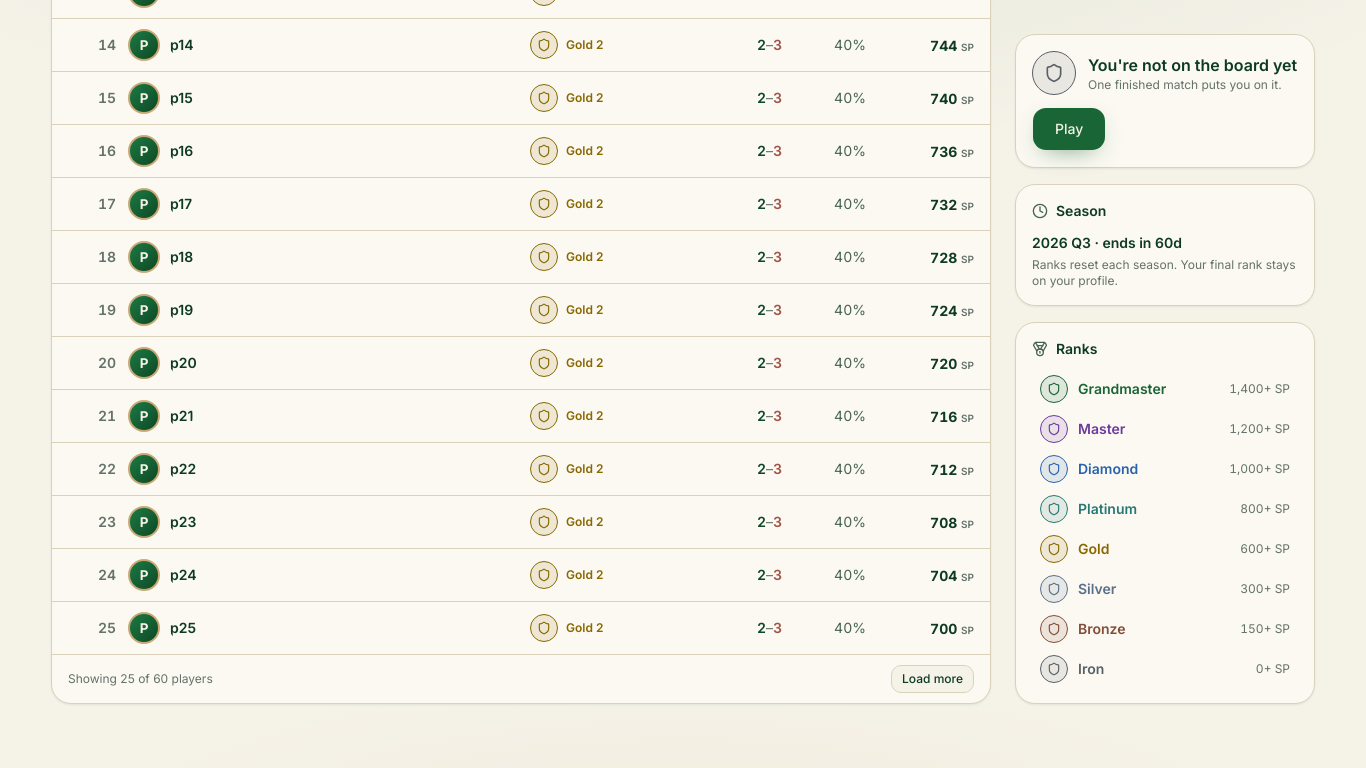
LeaderboardPage › keeps the loaded rows when fetchNextPage fails, and offers a retry
(page scrolled)
Step 1. Click the button with test id "leaderboard-load-more" → [932, 679], box left=891, top=665, right=974, bottom=693
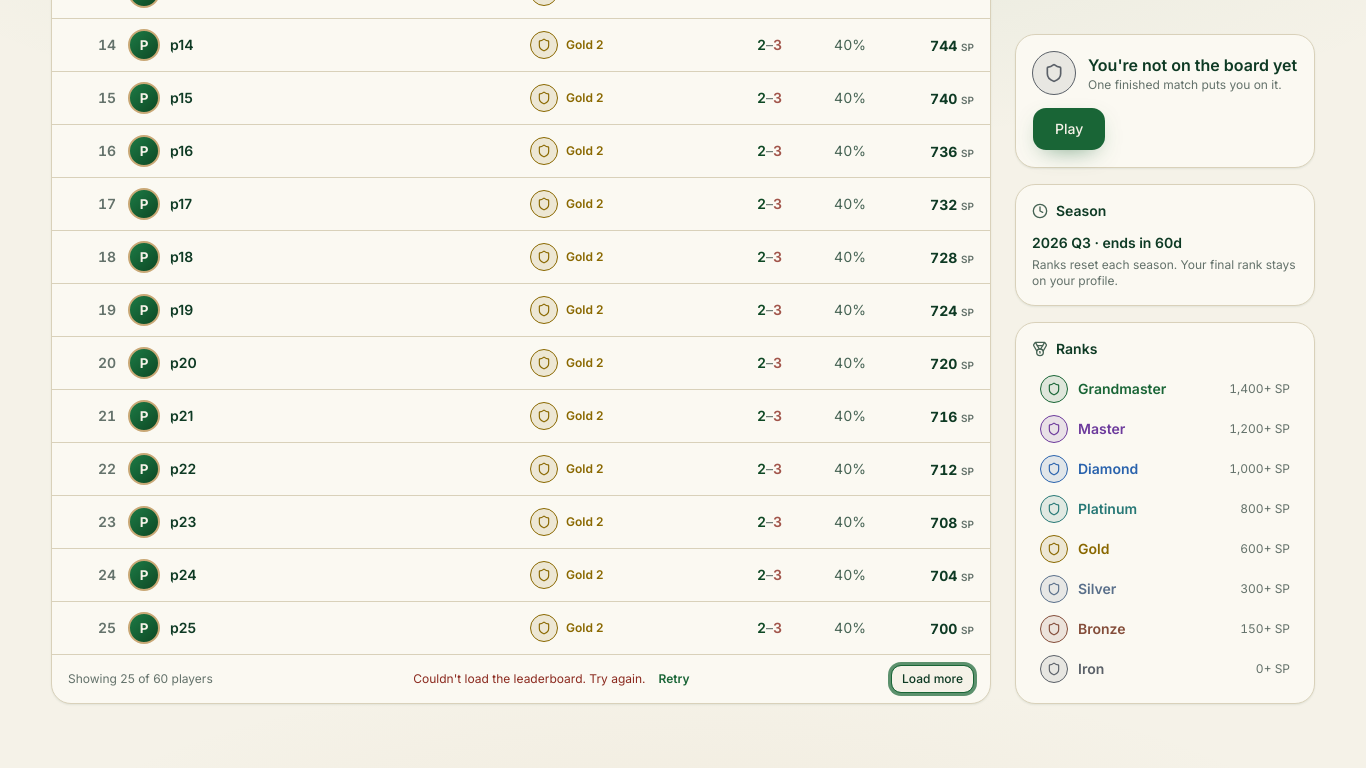
Check: the element with test id "leaderboard-page-error" is shown, box left=413, top=670, right=690, bottom=688
Check: the button with test id "leaderboard-retry" is shown, box left=658, top=670, right=690, bottom=688
